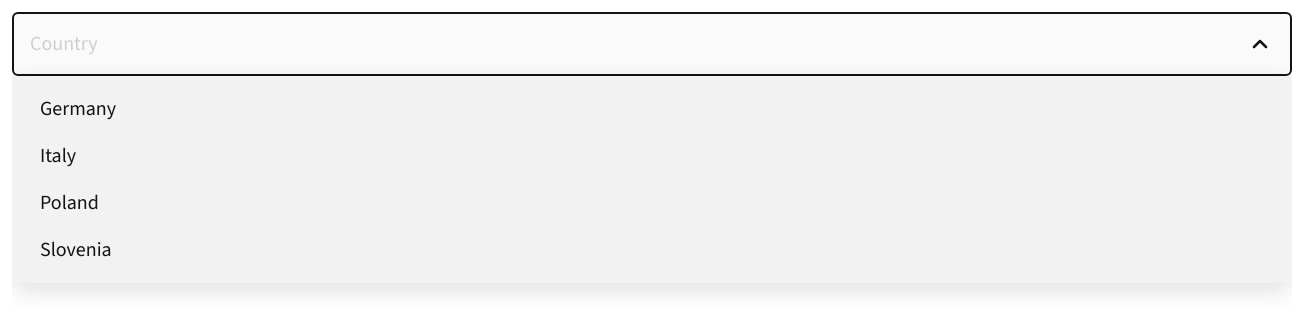
Scenario: SelectInput Component › closes dropdown when clicking outside
Press the mouse on the element showing "Germany Italy Poland Slovenia Outside element" at (652, 55), box [12, 12, 1292, 98]
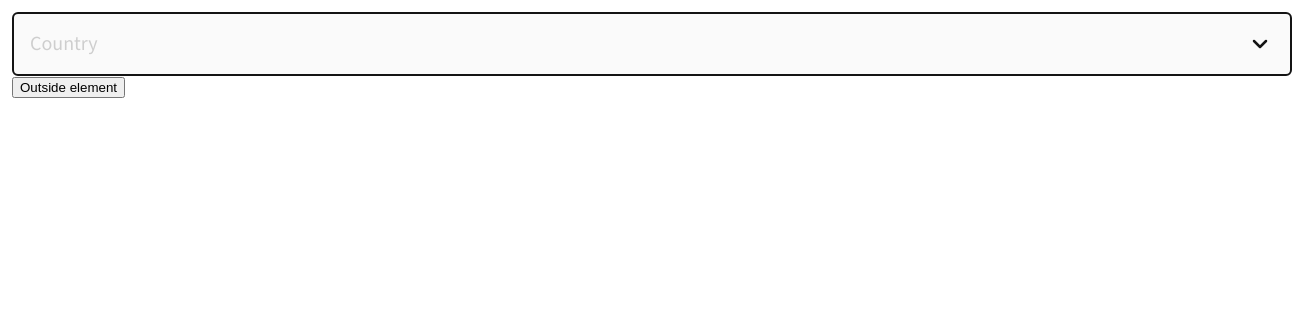
Check: the list is gone
